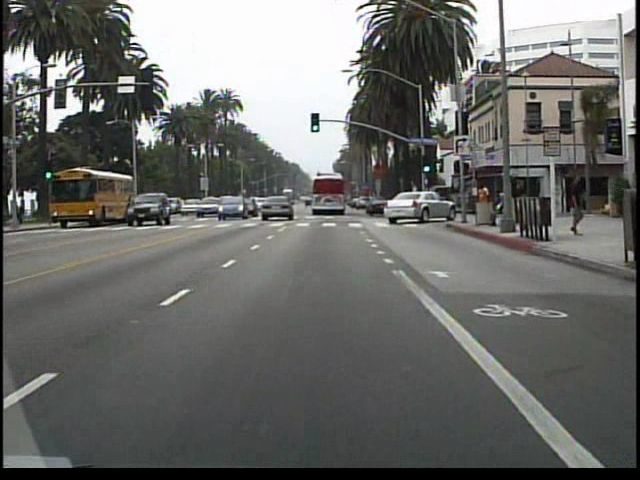person: (562, 170, 588, 239), (512, 178, 530, 227), (474, 181, 492, 224)
